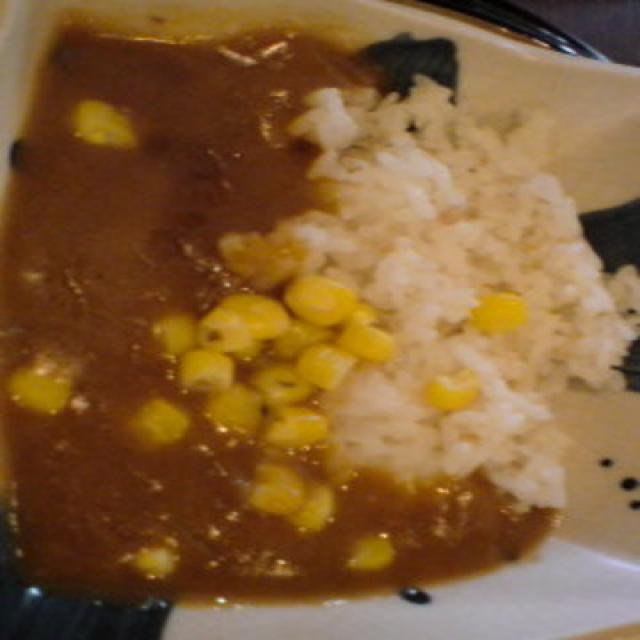牛肉菜式: (73, 59, 640, 409)
